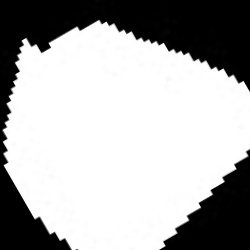spot: (1, 20, 250, 248)
